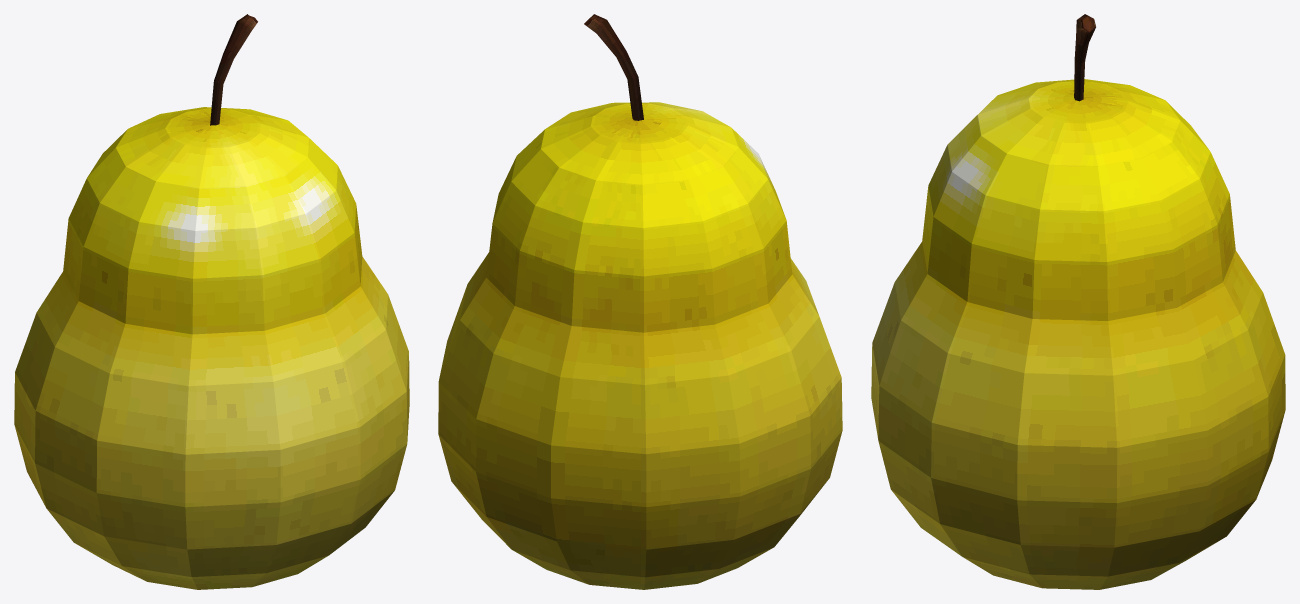
Rendered from Pear.obj.
The picture shows the model from 3 angles, left to right: view 1: azimuth 30°, elevation 25°; view 2: azimuth 150°, elevation 25°; view 3: azimuth 270°, elevation 25°; orthographic projection. The views are drawn at different scales.
Parts seen in each view (by area): view 1: Inst3D25_RefRep.212; view 2: Inst3D25_RefRep.212; view 3: Inst3D25_RefRep.212.
Boxes of the visible parts, <box> form: Inst3D25_RefRep.212: <box>14,14,409,589</box>; Inst3D25_RefRep.212: <box>438,14,842,589</box>; Inst3D25_RefRep.212: <box>871,14,1285,589</box>.
Bounding box in the file's own units: 2.64 × 3.89 × 2.59.
Materials: 1 (1 with a texture image).
